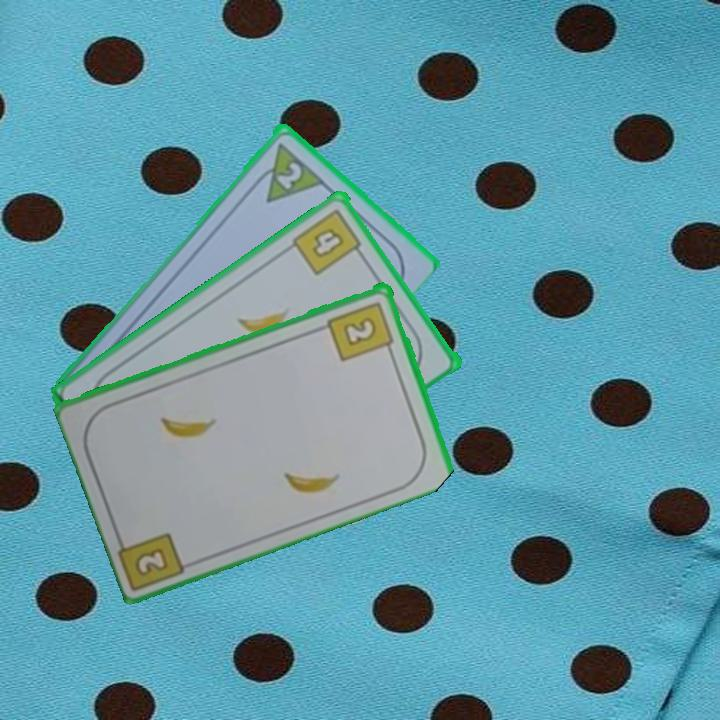2b: (324, 297, 397, 364), (134, 547, 168, 576)
2p: (247, 137, 326, 206)
4b: (289, 204, 368, 278)
